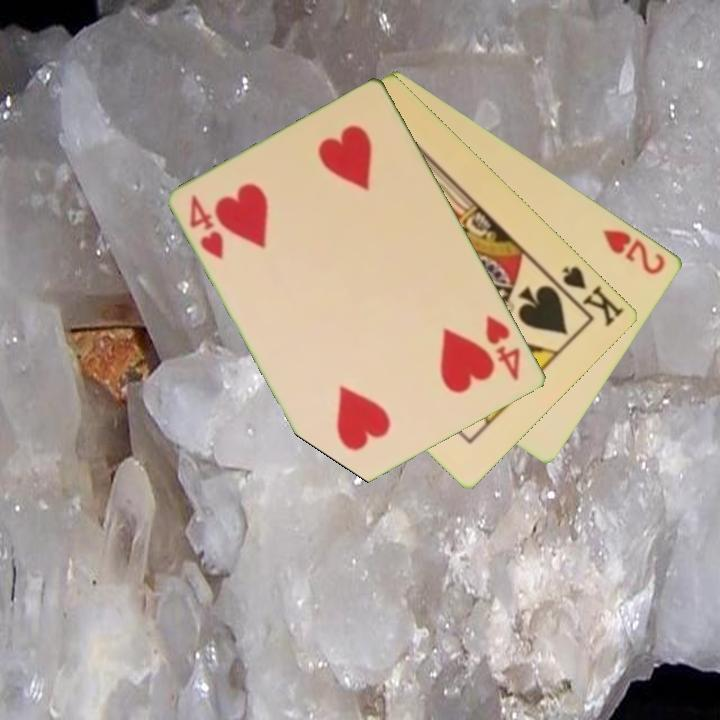2h: (600, 225, 669, 278)
4h: (482, 311, 524, 384), (186, 191, 228, 263)
Ks: (549, 262, 628, 330)
